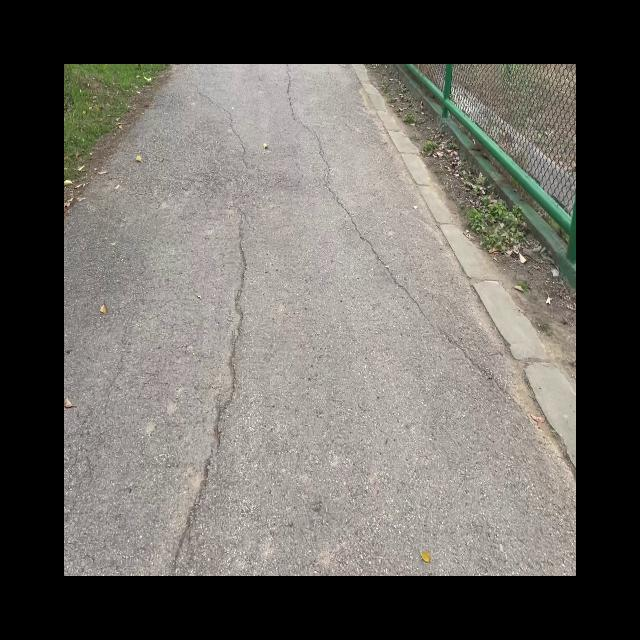retak_memanjang: (153, 195, 252, 576), (366, 239, 535, 436), (263, 66, 401, 292), (162, 64, 255, 183)
